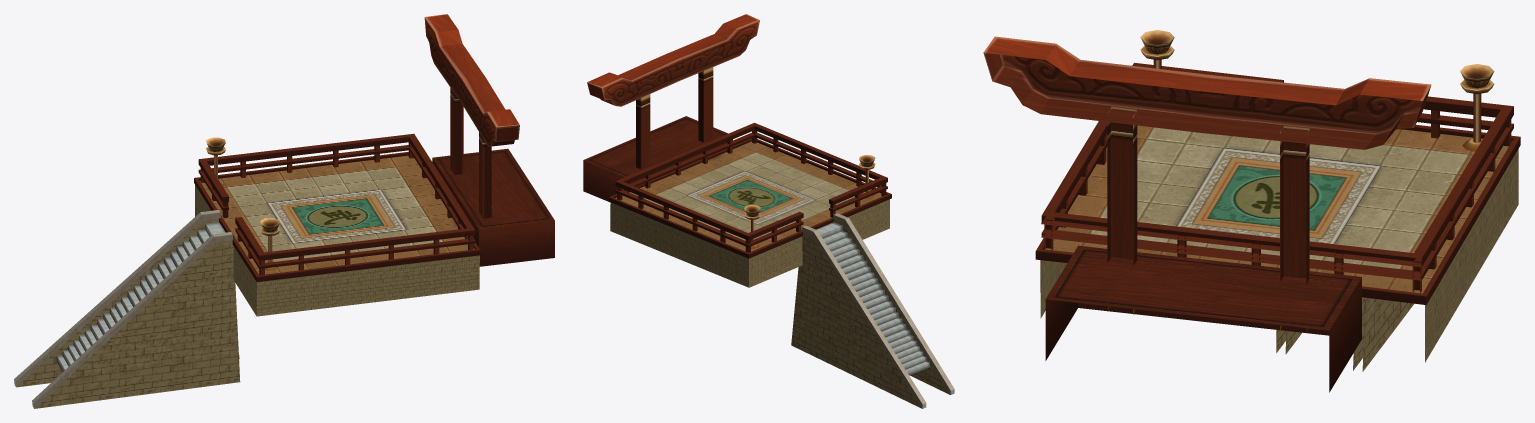
The model's file is 3kui_map_stadium.FBX.
3 views of the same model, side by side, from view 1: azimuth 30°, elevation 25°; view 2: azimuth 150°, elevation 25°; view 3: azimuth 270°, elevation 25° (orthographic). The views are drawn at different scales.
Parts seen in each view (by area): view 1: 3kui_map_stadium; view 2: 3kui_map_stadium; view 3: 3kui_map_stadium.
Part boxes in pixels (<box>): 3kui_map_stadium: <box>14,14,554,408</box>; 3kui_map_stadium: <box>583,14,954,408</box>; 3kui_map_stadium: <box>983,30,1520,392</box>.
Bounding box in the file's own units: 3433 × 1996 × 2084.
